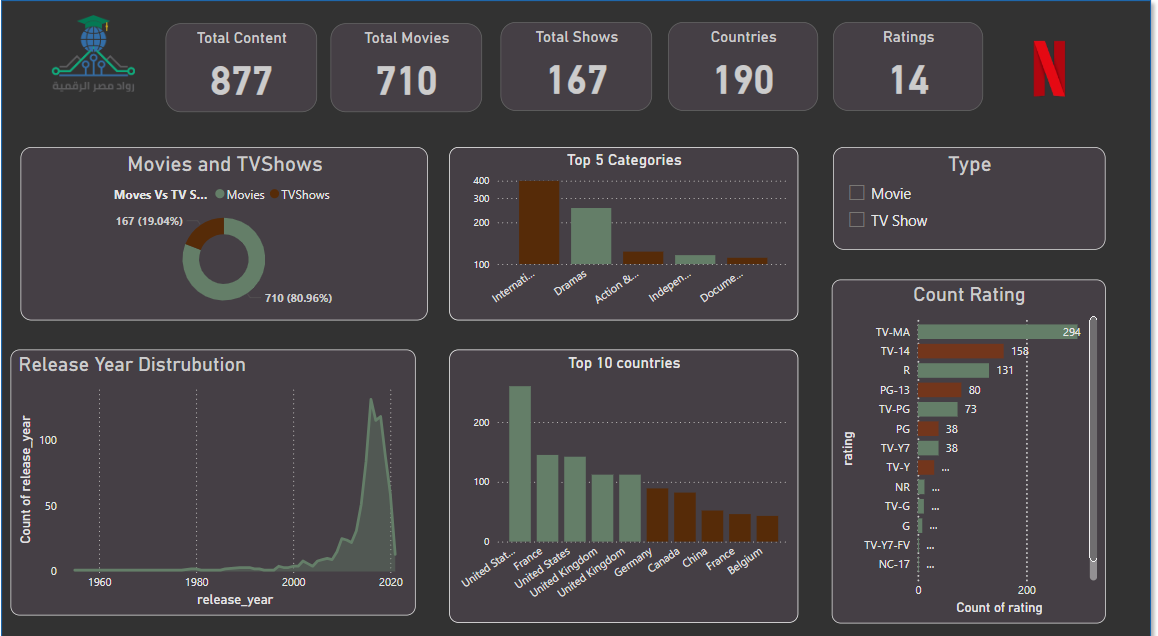

This screenshot's page, from the dashboard's own definition file:
{"tool":"powerbi","page":{"name":"Dashboard","canvas":[1280,720],"ordinal":0},"visuals":[{"type":"shape","box":[0,0,1280.3,719.4],"z":0},{"type":"image","box":[30.9,21,159.9,94],"z":1000},{"type":"donutChart","fields":{"Y":["My_Measures.NumberofFilms","My_Measures.NumberOfTVShows"]},"box":[30.9,169.7,447.3,190.7],"z":2000},{"type":"lineChart","title":"Release Year Distrubution","fields":{"Category":["Netflix.release_year"],"Y":["CountNonNull(Netflix.release_year)"]},"box":[19.6,392.6,444.5,291.7],"z":3000},{"type":"columnChart","title":"Top 5 Categories","fields":{"Y":["Sum(Top_5_Categorize.Count)"],"Category":["Top_5_Categorize.Listed In"]},"box":[500.6,169.7,382.8,190.7],"z":4000},{"type":"clusteredColumnChart","title":"Top 10 countries","fields":{"Category":["Top_10_Countries.Country"],"Y":["Sum(Top_10_Countries.Count)"]},"box":[500.6,392.6,382.8,300.1],"z":5000},{"type":"card","title":"Total Movies","fields":{"Values":["My_Measures.Movies"]},"box":[370.5,34.3,166,97.4],"z":6000},{"type":"card","title":"Total Shows","fields":{"Values":["My_Measures.TVShows"]},"box":[557.1,32.9,166,97.4],"z":7000},{"type":"card","title":"Countries","fields":{"Values":["My_Measures.Total Countries"]},"box":[741,32.9,164.7,97.4],"z":8000},{"type":"image","box":[1044.3,0,236,168.8],"z":9000},{"type":"clusteredBarChart","title":"Count Rating","fields":{"Category":["Netflix.rating"],"Y":["CountNonNull(Netflix.rating)"]},"box":[920.8,315.6,300.5,377.4],"z":10000},{"type":"slicer","title":"Type","fields":{"Values":["Netflix.type"]},"box":[922.1,170.2,299.1,112.5],"z":11000},{"type":"card","title":"Ratings","fields":{"Values":["My_Measures.Rating Count"]},"box":[922.1,32.9,164.7,97.4],"z":12000},{"type":"card","title":"Total Content","fields":{"Values":["My_Measures.TotalContent"]},"box":[189.4,34.3,166,97.4],"z":13000}]}

Visuals, with their boxes in screenshot pixels (x1, y1, x2, y2), scaled from the page's 1280x720 canvas onto the 1158x636 screenshot:
shape: crop(0, 0, 1157, 635)
image: crop(28, 19, 173, 102)
donutChart - My_Measures.NumberofFilms x My_Measures.NumberOfTVShows: crop(28, 150, 433, 318)
"Release Year Distrubution" lineChart: crop(18, 347, 420, 604)
"Top 5 Categories" columnChart: crop(453, 150, 799, 318)
"Top 10 countries" clusteredColumnChart: crop(453, 347, 799, 612)
"Total Movies" card: crop(335, 30, 485, 116)
"Total Shows" card: crop(504, 29, 654, 115)
"Countries" card: crop(670, 29, 819, 115)
image: crop(945, 0, 1157, 149)
"Count Rating" clusteredBarChart: crop(833, 279, 1105, 612)
"Type" slicer: crop(834, 150, 1105, 250)
"Ratings" card: crop(834, 29, 983, 115)
"Total Content" card: crop(171, 30, 322, 116)
